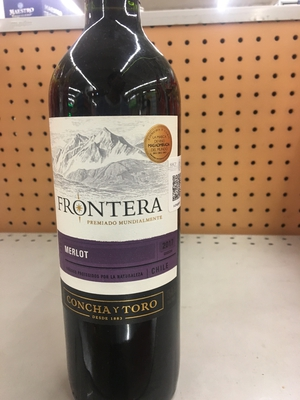frontera merlot: (44, 10, 200, 400)
